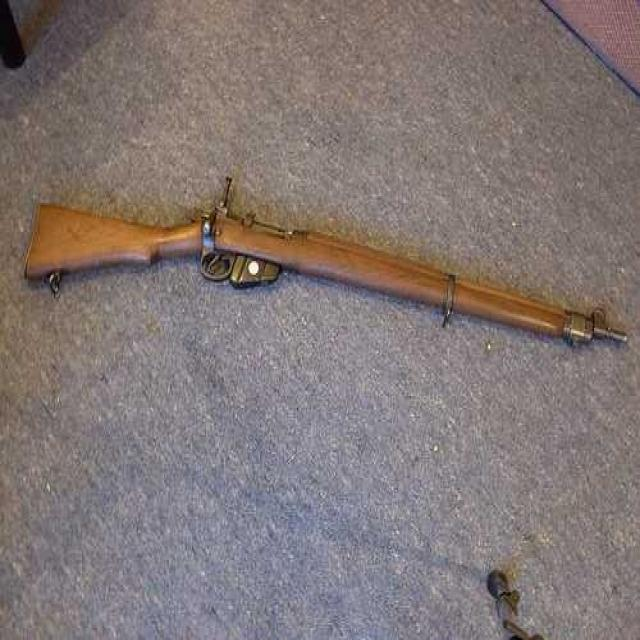heavyweapon: (29, 143, 633, 394)
